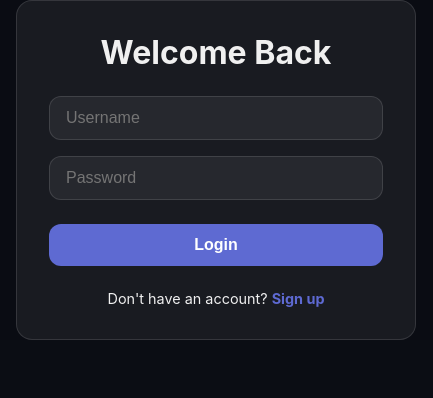
Login Component › shows error on login failure
Type "testuser" into the field with placeholder "Username".
click(216, 118); type("testuser")  # box [49,96,383,140]
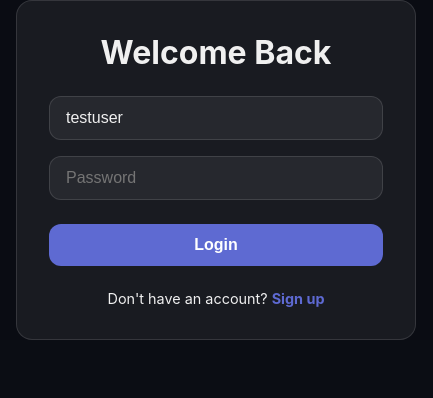
Type "password123" into the password field with placeholder "Password".
click(216, 178); type("password123")  # box [49,156,383,200]
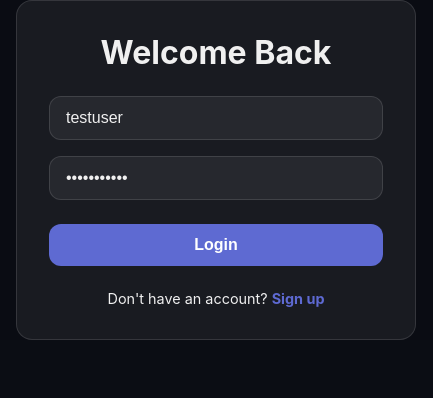
Click the button "Login".
click(216, 245)  # box [49,224,383,266]
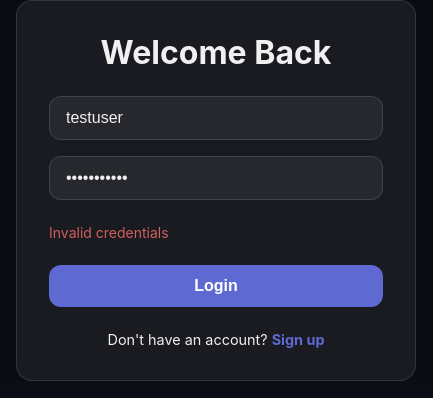
Expected: the text "Invalid credentials" is shown, [49,224,169,241]
